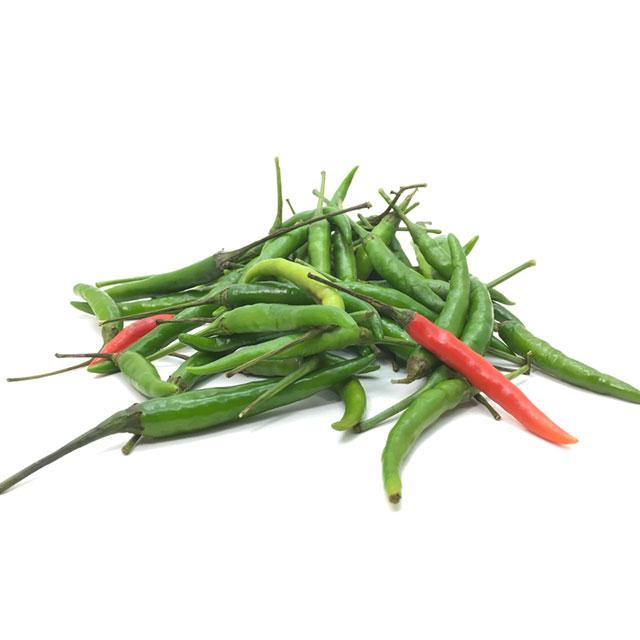chili_pepper: (0, 355, 375, 494), (308, 274, 579, 446), (383, 380, 476, 504), (106, 256, 223, 302), (196, 303, 357, 334), (73, 284, 123, 344)
